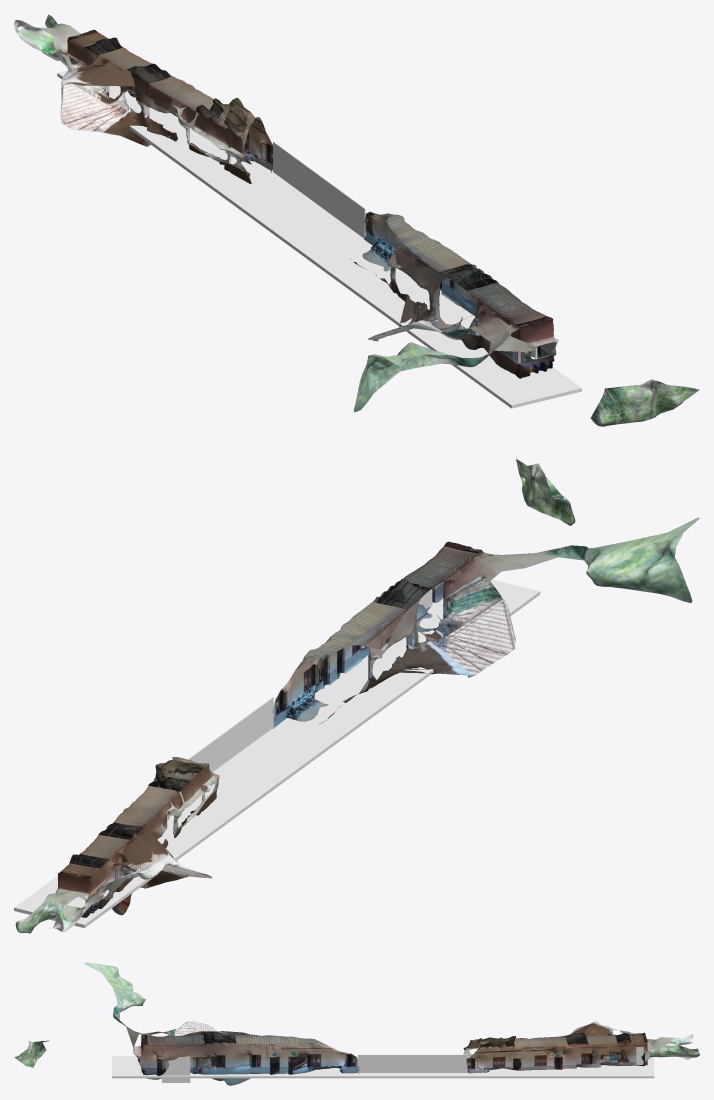
File: 2ndFloor.fbx
The picture shows the model from 3 angles, top to bottom: view 1: azimuth 30°, elevation 25°; view 2: azimuth 150°, elevation 25°; view 3: azimuth 270°, elevation 25°; orthographic projection. The views are drawn at different scales.
Parts seen in each view (by area): view 1: _2NDFLOORLEFT_LADIESWASHROOM, floor, _2NDFLOOR_CS_STAFFROOM, wall; view 2: _2NDFLOORLEFT_LADIESWASHROOM, floor, _2NDFLOOR_CS_STAFFROOM, wall; view 3: _2NDFLOORLEFT_LADIESWASHROOM, _2NDFLOOR_CS_STAFFROOM, floor, wall, ladies_washroom.
Boxes of the visible parts, x1,y1,x2,y2 form: _2NDFLOORLEFT_LADIESWASHROOM: (350,211,699,426); floor: (57,70,581,408); _2NDFLOOR_CS_STAFFROOM: (14,14,272,183); wall: (273,142,365,238); _2NDFLOORLEFT_LADIESWASHROOM: (272,456,699,728); floor: (14,579,540,927); _2NDFLOOR_CS_STAFFROOM: (15,757,219,933); wall: (187,697,273,771); _2NDFLOORLEFT_LADIESWASHROOM: (14,962,359,1085); _2NDFLOOR_CS_STAFFROOM: (463,1021,699,1073); floor: (112,1056,654,1078); wall: (358,1054,467,1072); ladies_washroom: (162,1056,190,1082).
Bounding box in the file's own units: 4143 × 1738 × 15787.
Materials: 3 (2 with a texture image).
